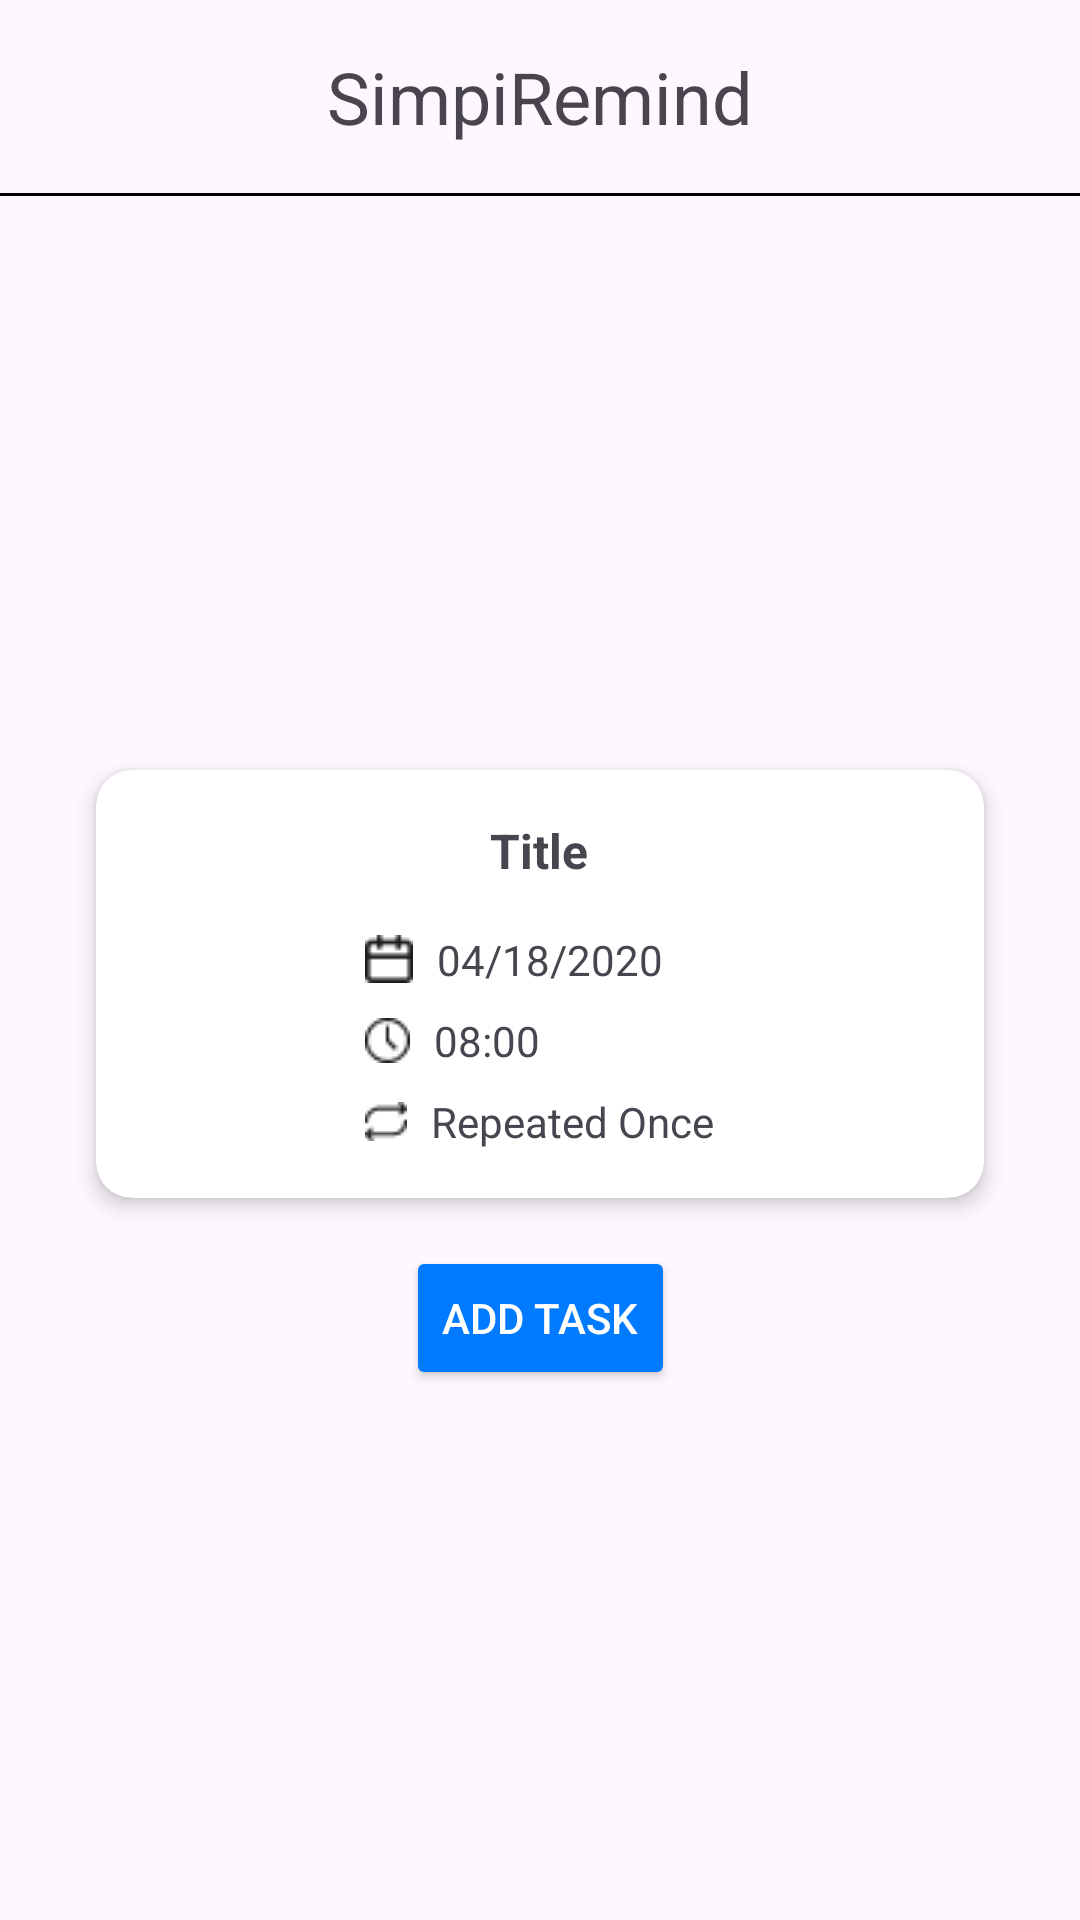

Locate icon controls on the screen. Image size 1080 x 1920, boxes as (x1, y1, x2, y2).
Calendar Icon: (365, 935, 413, 983)
Repeat Icon: (365, 1102, 407, 1141)
Time Icon: (365, 1018, 410, 1063)
